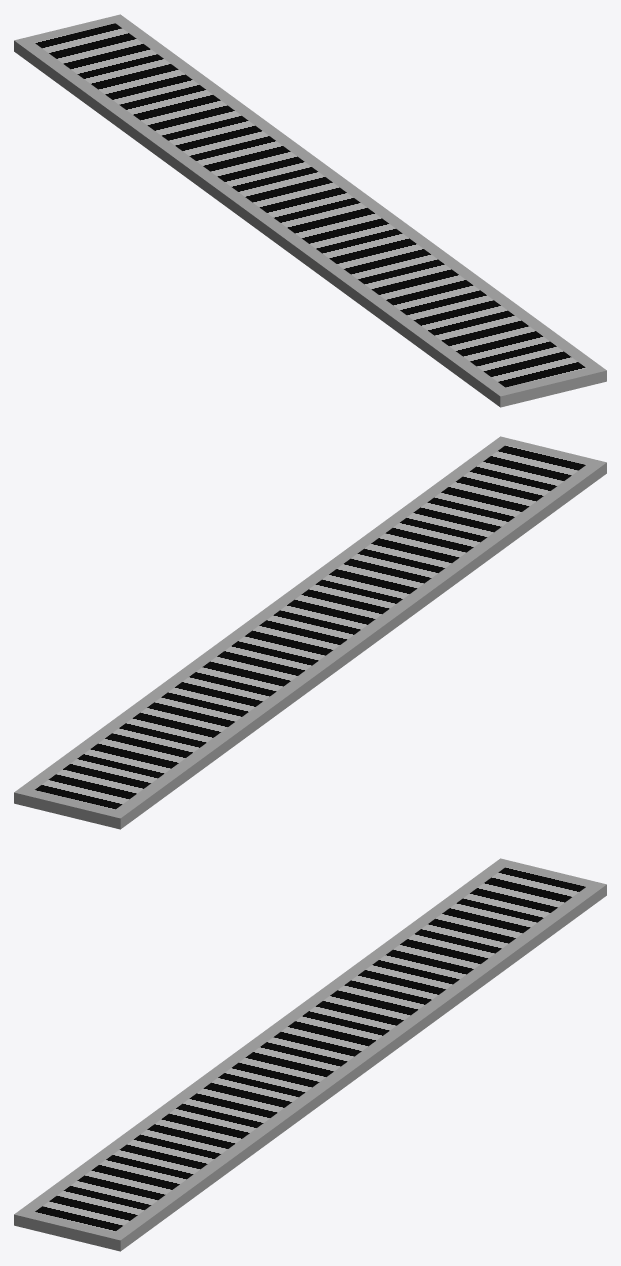
Rendered from grille sol.fbx.
3 renders of one model, top to bottom at view 1: azimuth 30°, elevation 25°; view 2: azimuth 150°, elevation 25°; view 3: azimuth 330°, elevation 25°, orthographic.
Visible parts, largest first — view 1: grille_sol; view 2: grille_sol; view 3: grille_sol.
Boxes of the visible parts, left/top/right/bottom form: grille_sol: left=14, top=14, right=606, bottom=407; grille_sol: left=14, top=436, right=606, bottom=829; grille_sol: left=14, top=858, right=606, bottom=1251.
Size of the model in its own units: 0.472 by 0.047 by 3.73.
Materials: 2 (1 with a texture image).
